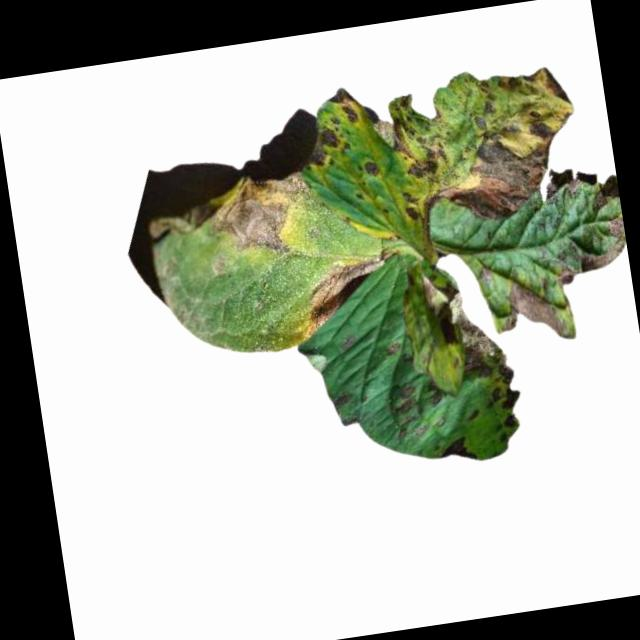Early_blight: (423, 58, 599, 229), (141, 170, 320, 276), (420, 266, 519, 394), (296, 256, 400, 341), (552, 214, 630, 287), (494, 273, 568, 346), (387, 90, 441, 185), (303, 127, 353, 171), (326, 84, 361, 129), (434, 436, 477, 466), (486, 382, 525, 414), (401, 189, 426, 225), (398, 385, 419, 414), (361, 158, 384, 180)
